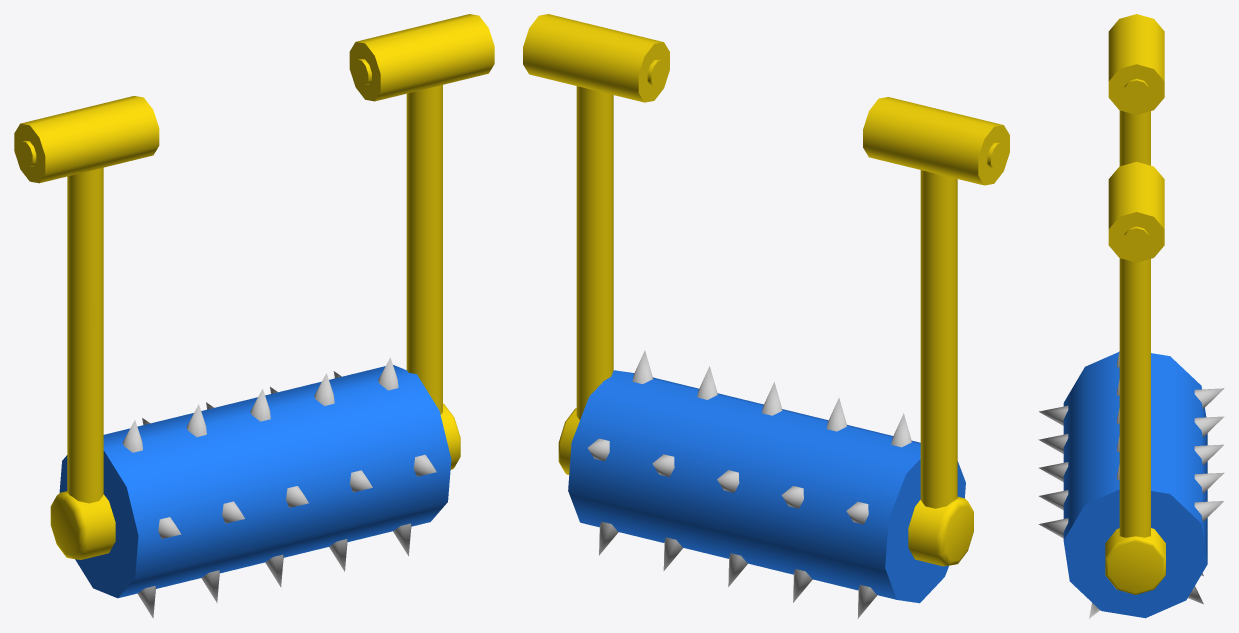
File: Mechanism 2.fbx
The picture shows the model from 3 angles, left to right: view 1: azimuth 30°, elevation 25°; view 2: azimuth 150°, elevation 25°; view 3: azimuth 270°, elevation 25°; orthographic projection. The views are drawn at different scales.
Parts seen in each view (by area): view 1: Mechanism_3_2, Basis; view 2: Mechanism_3_2, Basis; view 3: Mechanism_3_2, Basis.
Boxes of the visible parts, x1,y1,x2,y2 form: Mechanism_3_2: (59, 357, 451, 618); Basis: (14, 14, 494, 559); Mechanism_3_2: (568, 350, 965, 618); Basis: (523, 14, 1009, 566); Mechanism_3_2: (1038, 351, 1224, 618); Basis: (1105, 14, 1165, 594).
Size of the model in its own units: 715 by 745 by 280.
